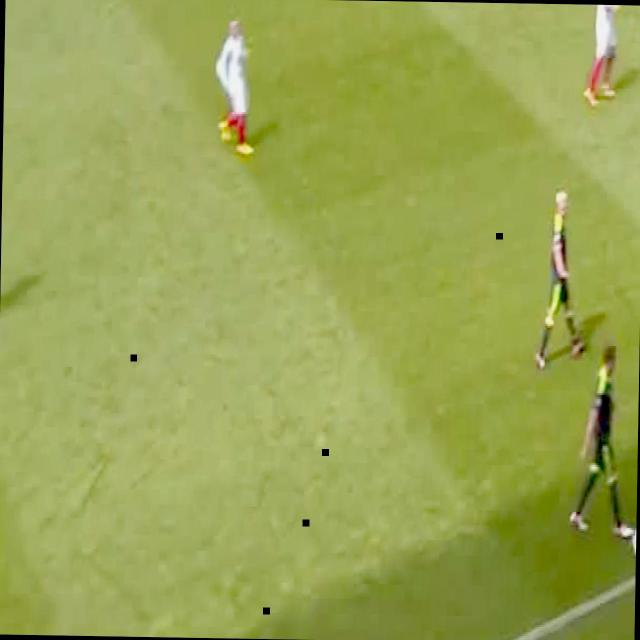ball: (630, 522, 636, 558)
player-white: (568, 347, 638, 545), (535, 187, 589, 371), (215, 16, 256, 160), (583, 5, 619, 106)
